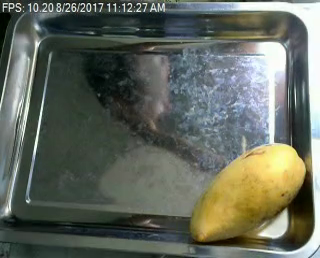Mango: (191, 137, 308, 243)
